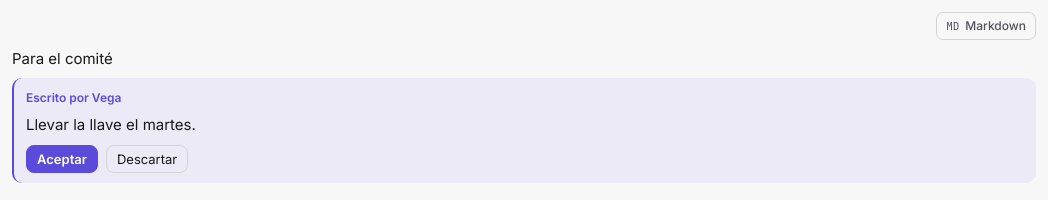
what an assistant wrote › shows marked as its, is not part of the text until accepted, and is put in when it is
The image size is (1048, 200).
Expected: the element "Escrito por Vega" shows "Llevar la llave el martes.", top-left (26, 115), bottom-right (196, 134)
Click the button "Aceptar".
click(62, 159)  # box top-left (26, 145), bottom-right (98, 173)
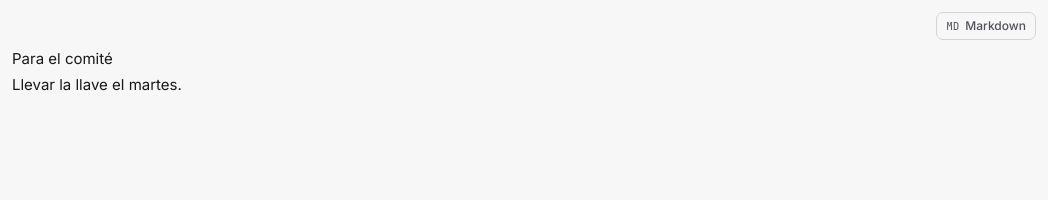
Expected: the text "Escrito por Vega" is gone
